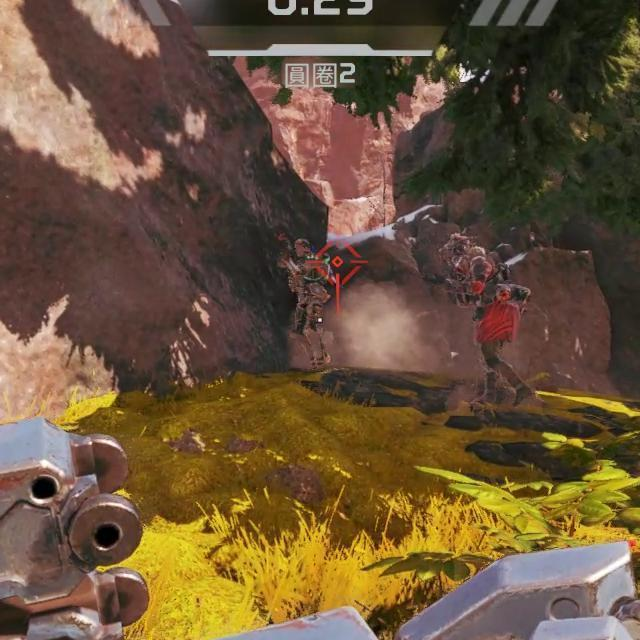avatar: (439, 229, 534, 410), (283, 237, 333, 372)
